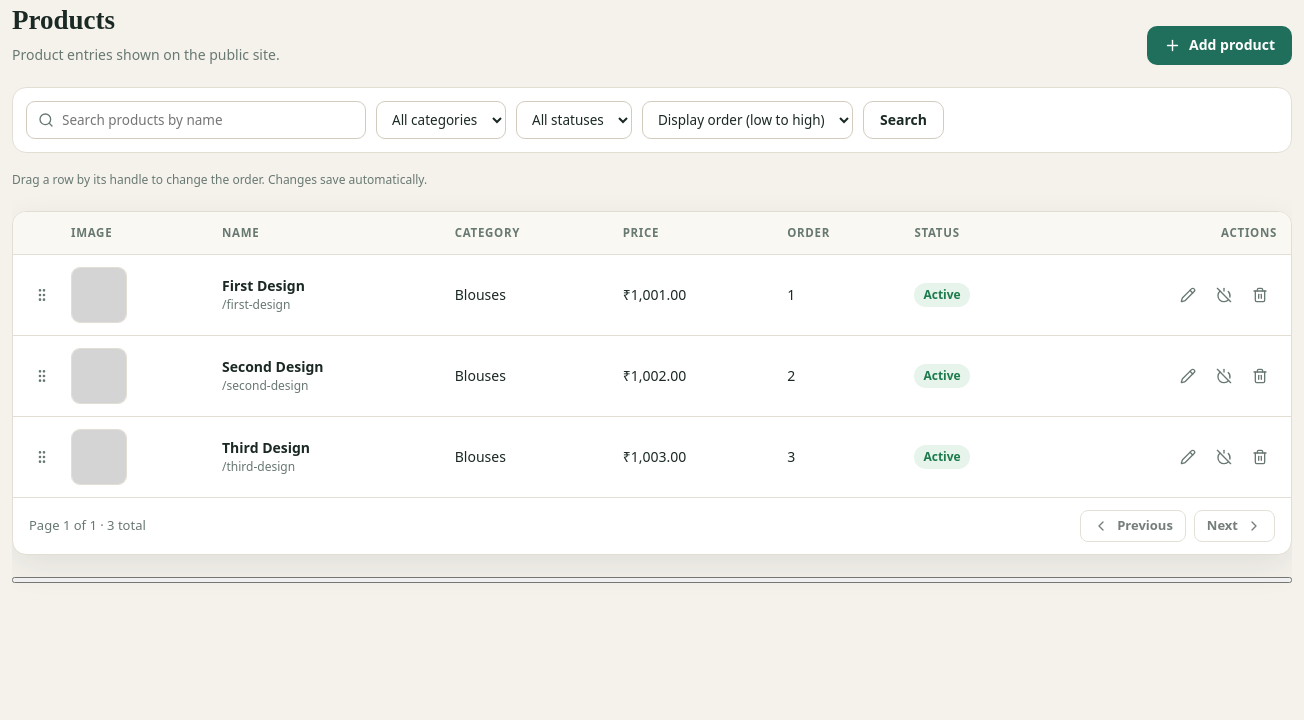
Scenario: catalogue drag and drop › restores the previous order when the API rejects
This screenshot has width=1304, height=720.
Check: the text "First Design" is shown, box [222,276,305,295]
Click the button with test id "simulate-drop" at (652, 580), box [12,576,1292,582]
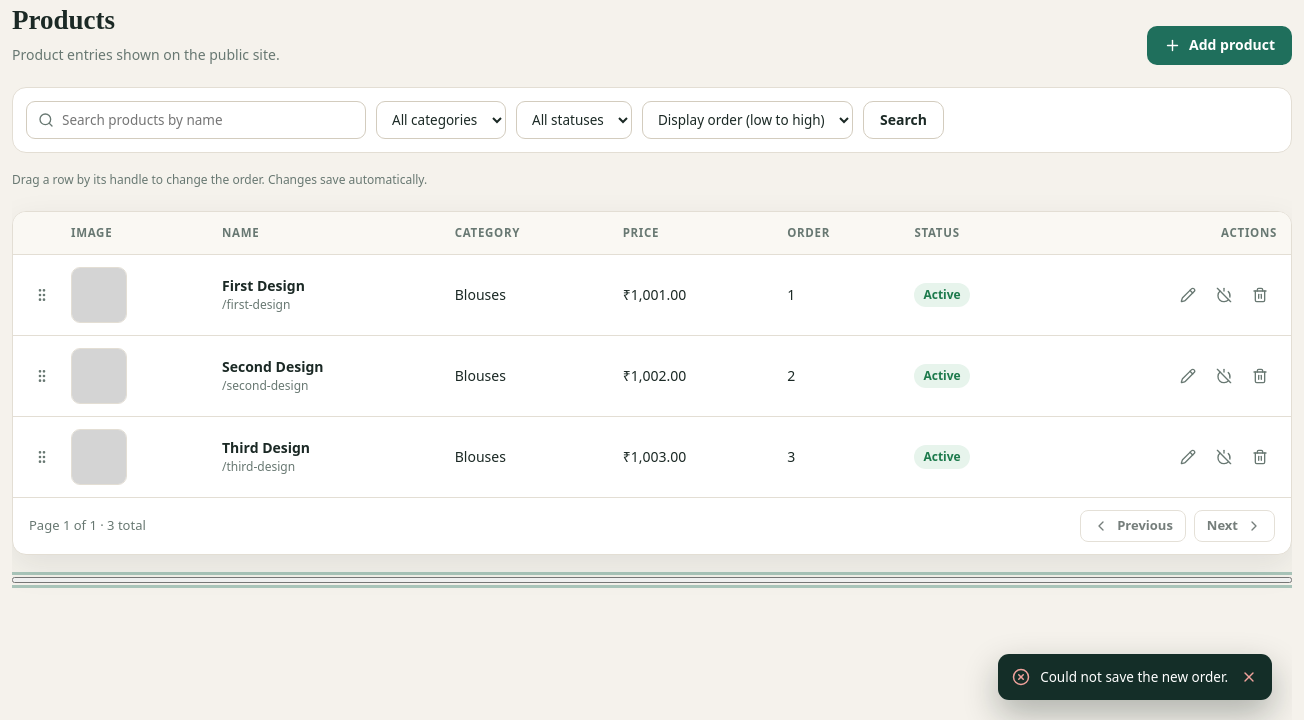
Check: the text "Could not save the new order." is shown, box [1040,667,1228,687]
